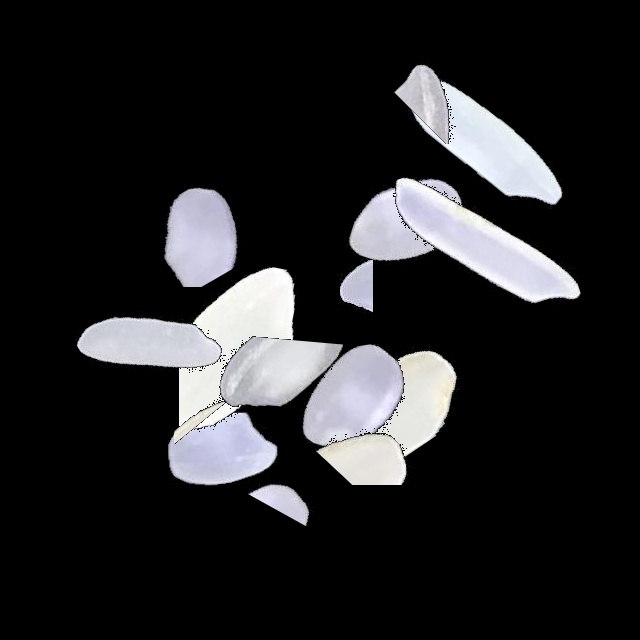Broken: (179, 231, 347, 481), (54, 124, 304, 287), (145, 367, 304, 617), (295, 320, 545, 463), (205, 285, 347, 535), (343, 34, 593, 144), (273, 161, 373, 411), (246, 387, 496, 485), (247, 340, 342, 590), (174, 238, 250, 488)
Full: (284, 97, 534, 347), (358, 113, 608, 363), (225, 268, 475, 518), (362, 21, 612, 271), (22, 221, 272, 471)
